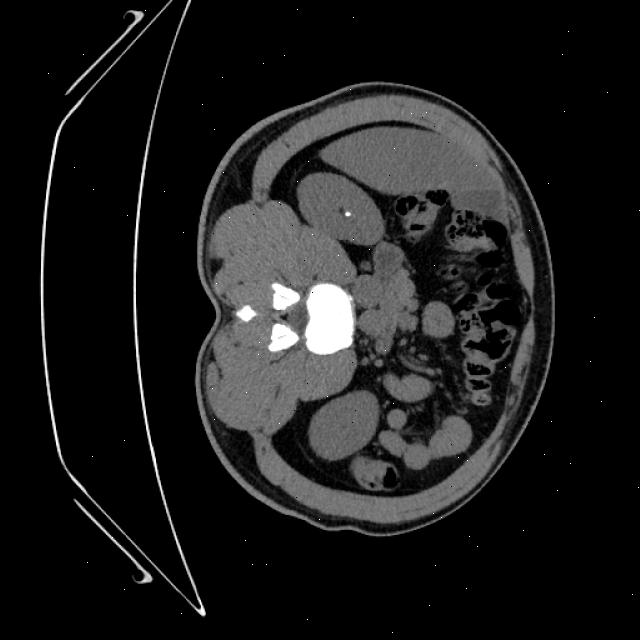kidneystone: (343, 211, 351, 215)
